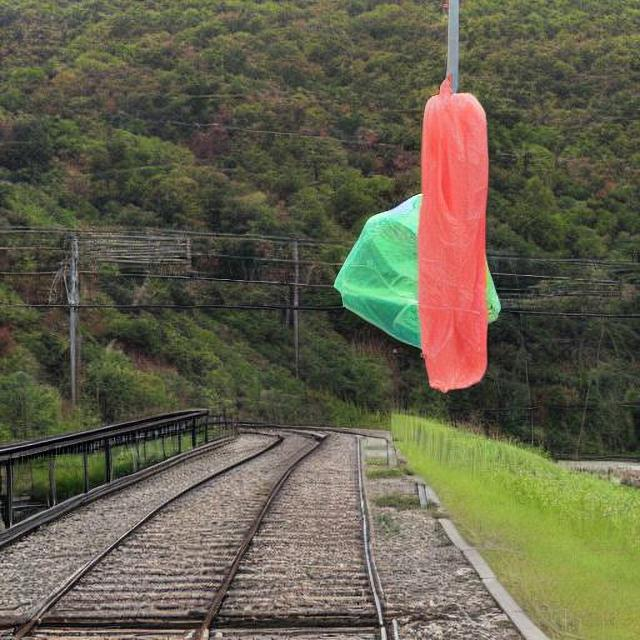floating object: (326, 76, 501, 395)
